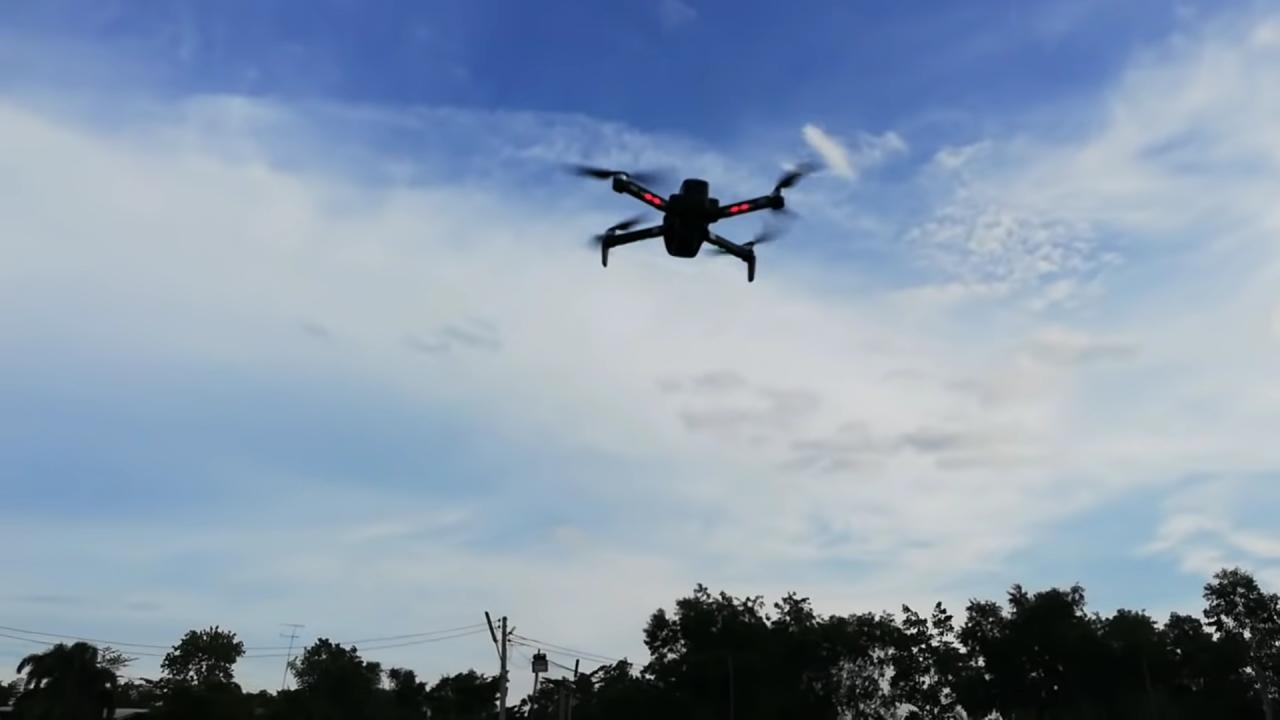Drone: (556, 148, 837, 290)
